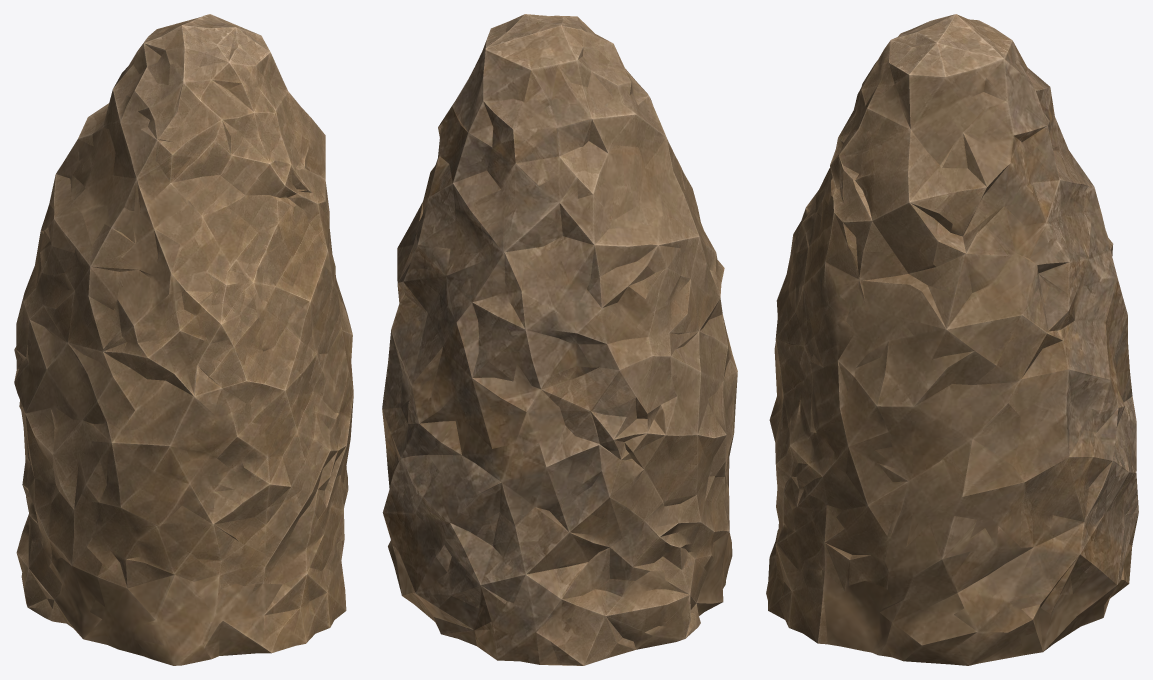
Rendered from ebenezer-stone.glb.
3 renders of one model, left to right at view 1: azimuth 30°, elevation 25°; view 2: azimuth 150°, elevation 25°; view 3: azimuth 270°, elevation 25°, orthographic. The views are drawn at different scales.
Bounding box in the file's own units: 1.08 × 1.9 × 1.11.
Materials: 1 (1 with a texture image).
